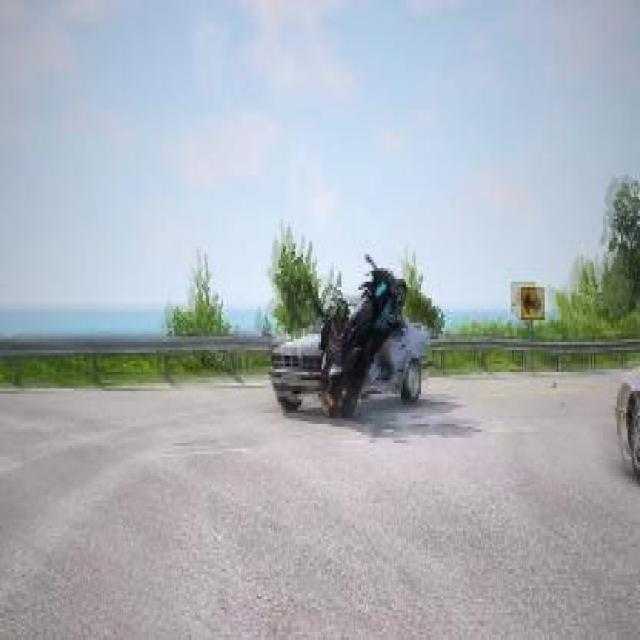accident: (269, 254, 434, 427)
